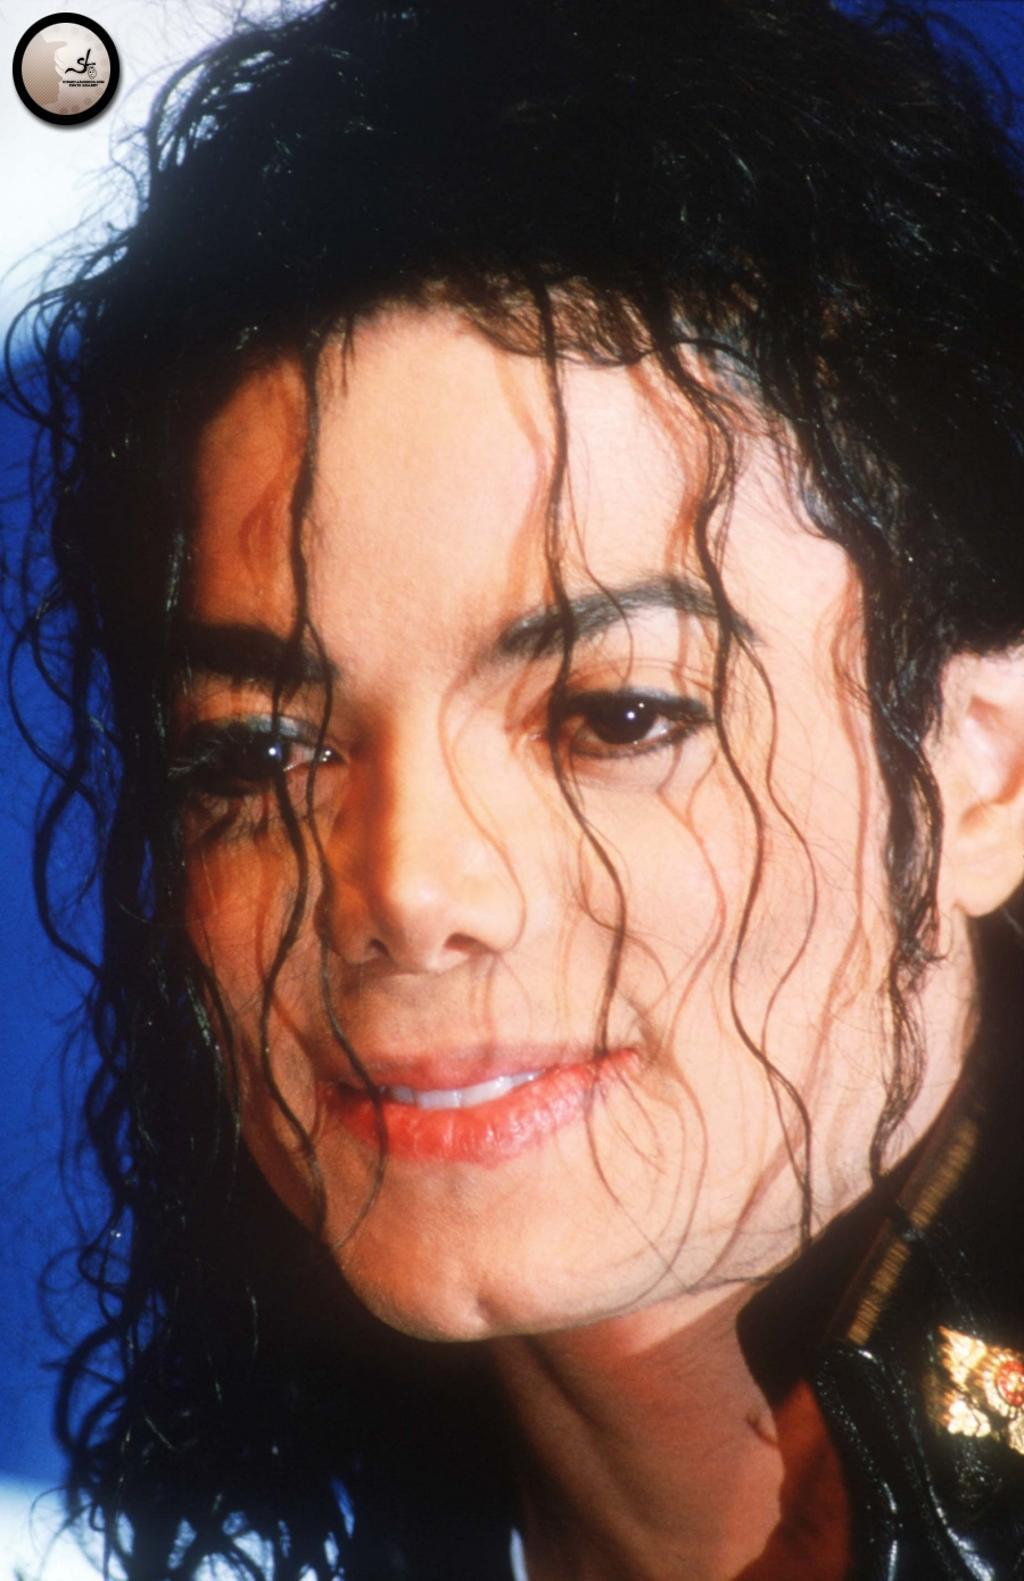face: (164, 242, 960, 1343)
